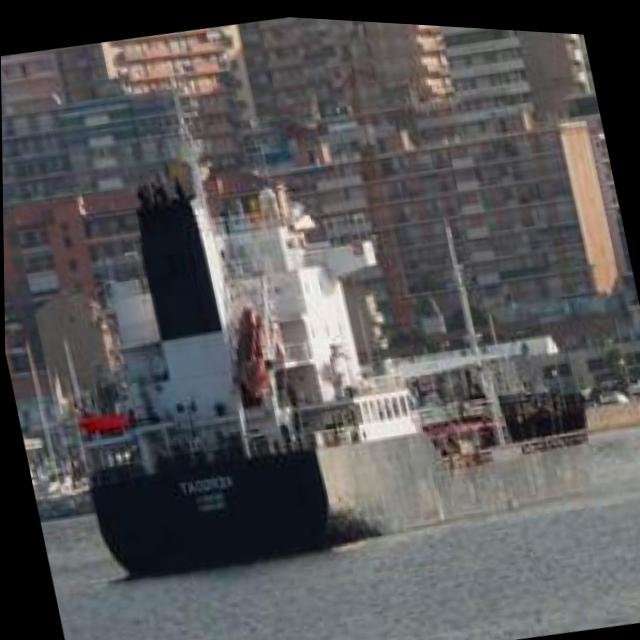ship2: (77, 124, 588, 577)
